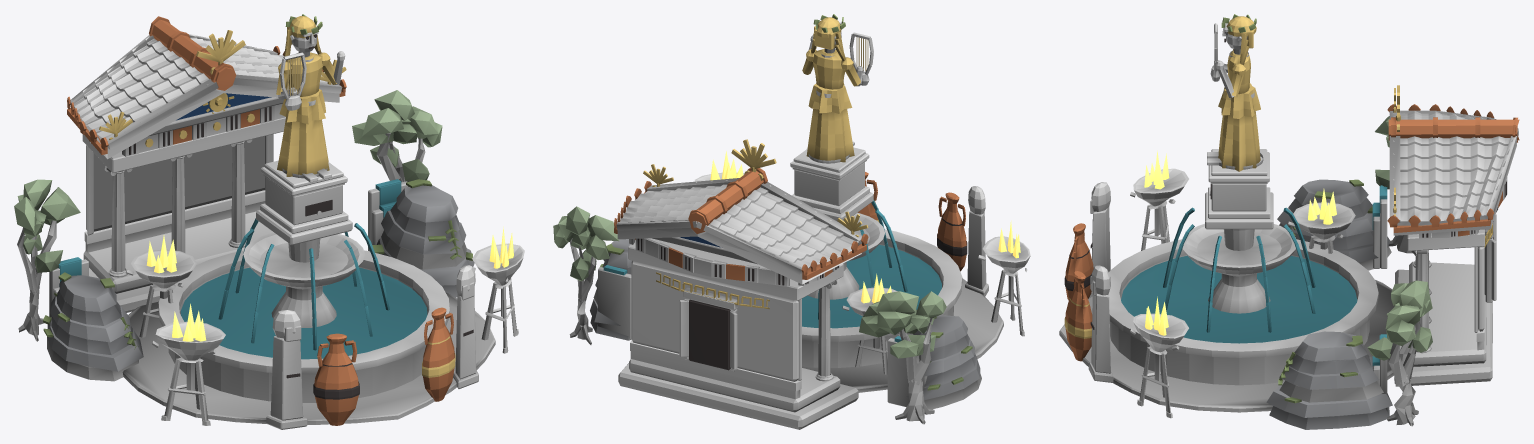
File: apollo-fountain-l3.glb
The picture shows the model from 3 angles, left to right: view 1: azimuth 30°, elevation 25°; view 2: azimuth 150°, elevation 25°; view 3: azimuth 270°, elevation 25°; orthographic projection. The views are drawn at different scales.
Visible parts, largest first — view 1: apollo-fountain-l3; view 2: apollo-fountain-l3; view 3: apollo-fountain-l3.
Part boxes in pixels (x1,y1,x2,y2): apollo-fountain-l3: [14, 14, 524, 429]; apollo-fountain-l3: [553, 14, 1030, 429]; apollo-fountain-l3: [1059, 14, 1519, 429].
Bounding box in the file's own units: 1.66 × 1.25 × 1.63.
